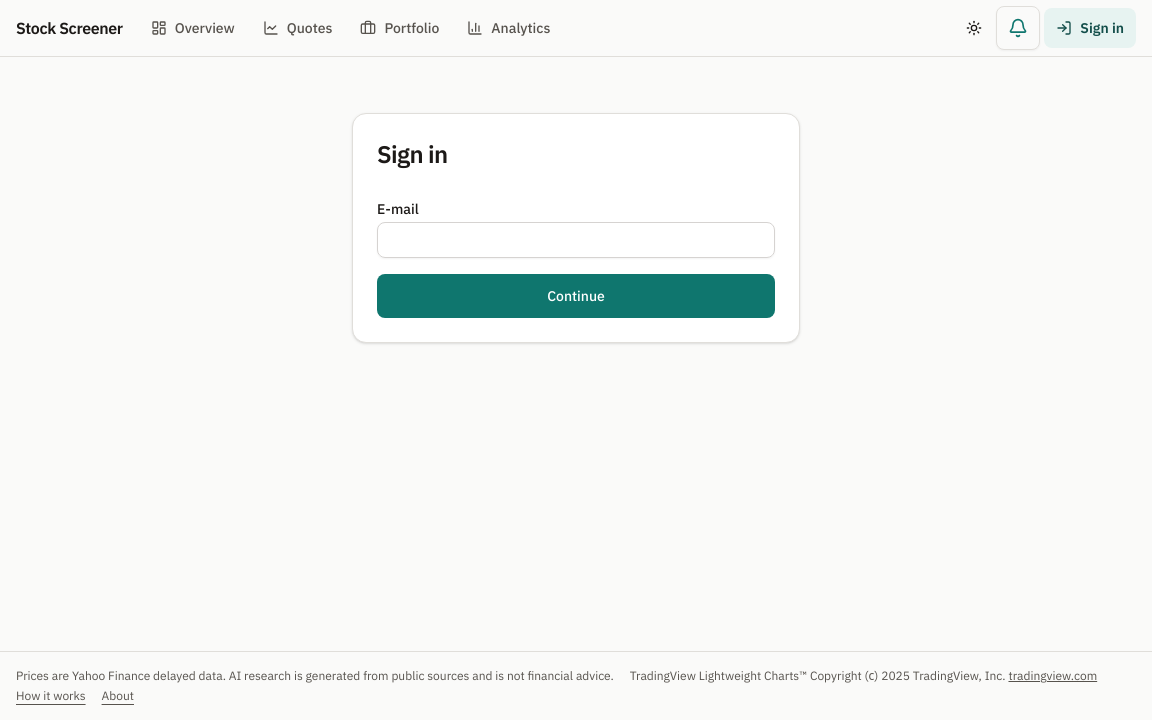
Test: sign-in, on the list without a password › shows the Create your password step with the e-mail, Change and the 12 character hint
Type "friend@example.com" into the field labelled "E-mail" at (576, 240), box [377,222,775,258]
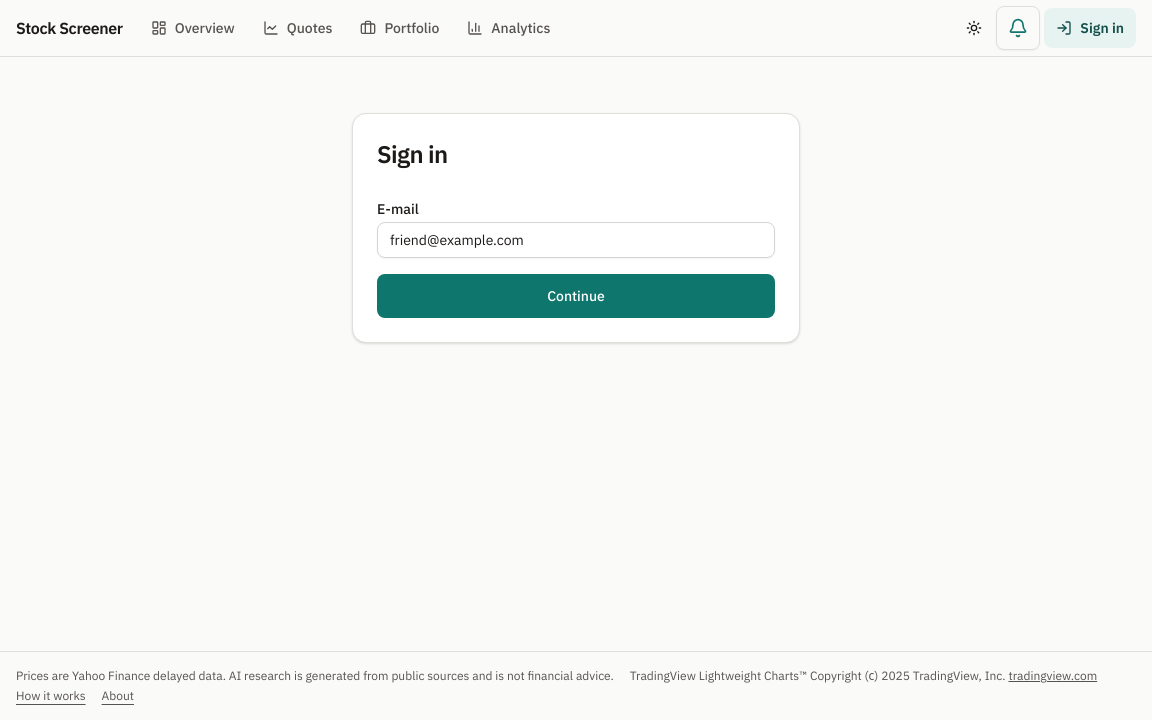
Submit the form "Continue", box [377,202,775,318]
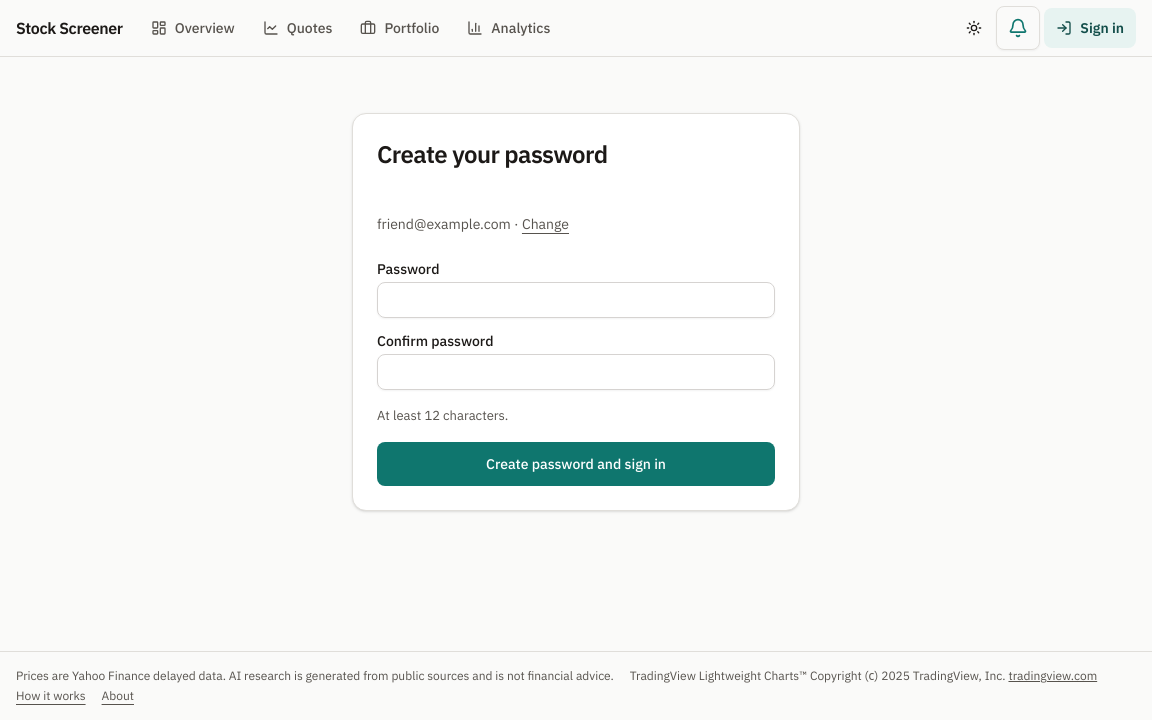
Now the heading "Create your password" is shown, box [377,138,608,170]
Now the text "friend@example.com" is shown, box [377,215,511,233]
Now the password field labelled "Password" is shown, box [377,282,775,318]
